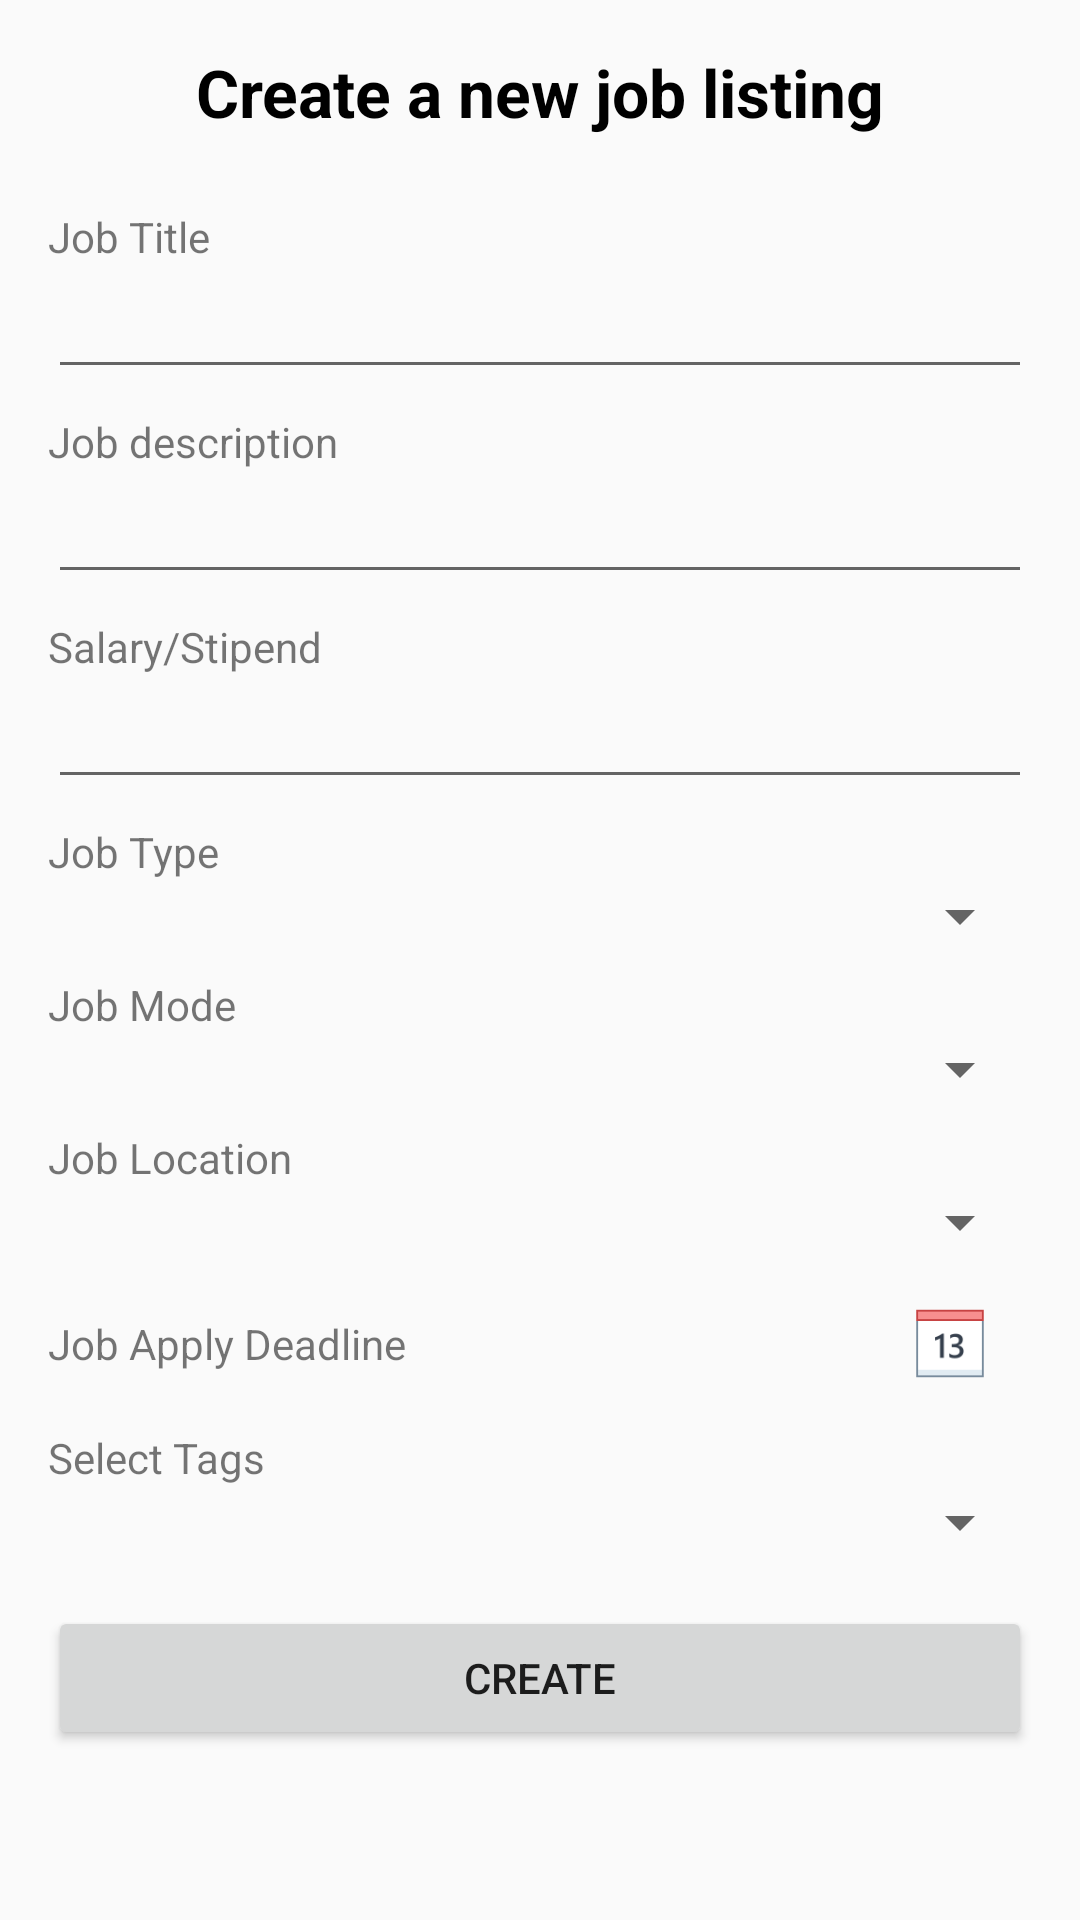

Icon bounding boxes for this 1080*1920 phone screenshot, format (x1, y1, x2, y2):
calender: (916, 1309, 984, 1378)
